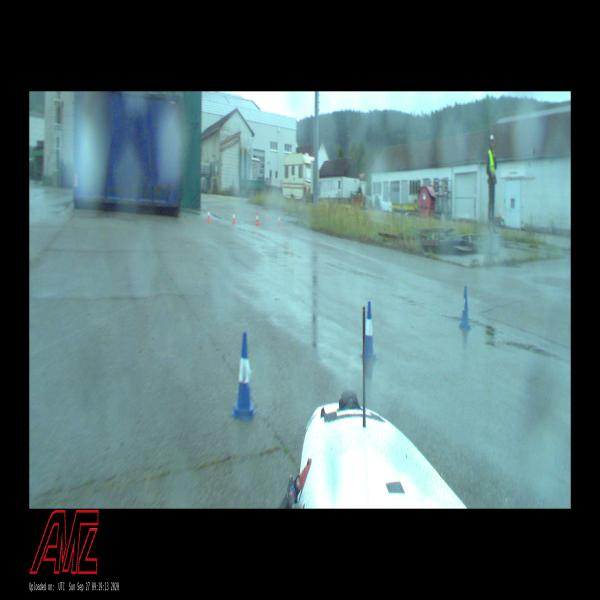blue_cone: (231, 332, 257, 421), (360, 301, 376, 360), (458, 286, 472, 330)
orange_cone: (232, 210, 236, 224), (206, 208, 210, 222), (255, 212, 259, 226), (277, 215, 281, 226)
